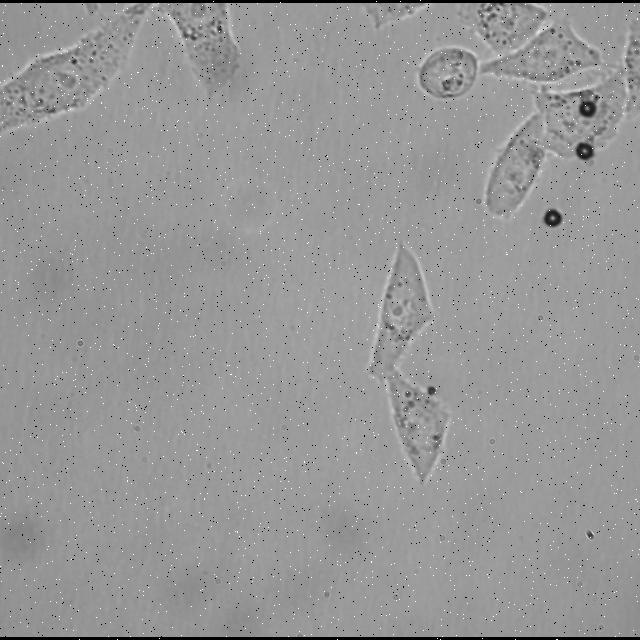microbeads: (572, 138, 598, 164), (578, 95, 600, 118), (546, 206, 564, 228)
